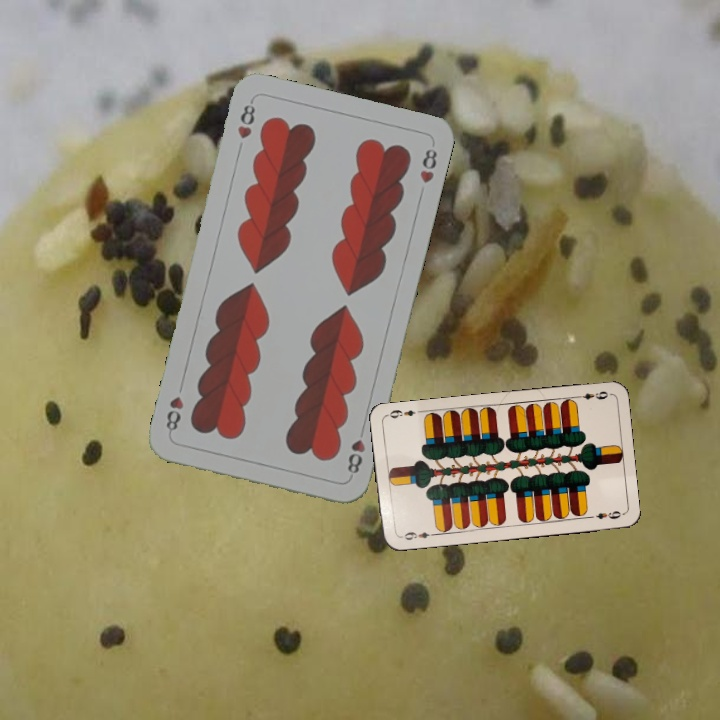E9: (396, 528, 436, 543), (572, 387, 612, 402)
H8: (343, 422, 368, 477), (233, 96, 258, 142)
